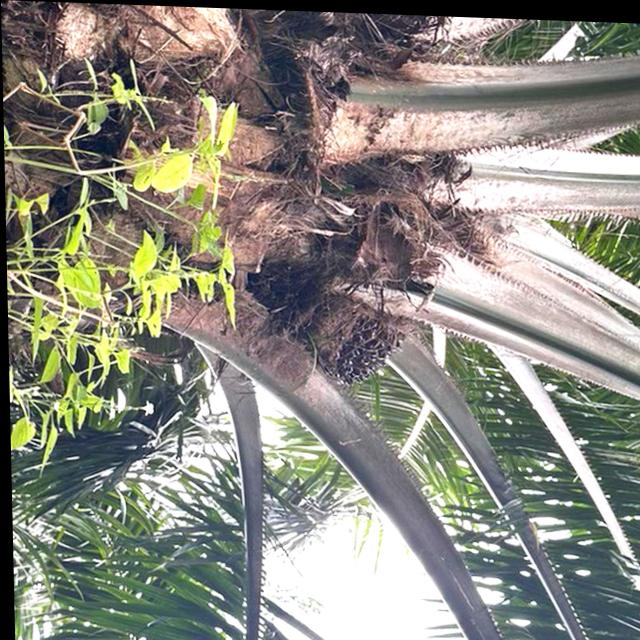almost: (284, 281, 406, 389)
